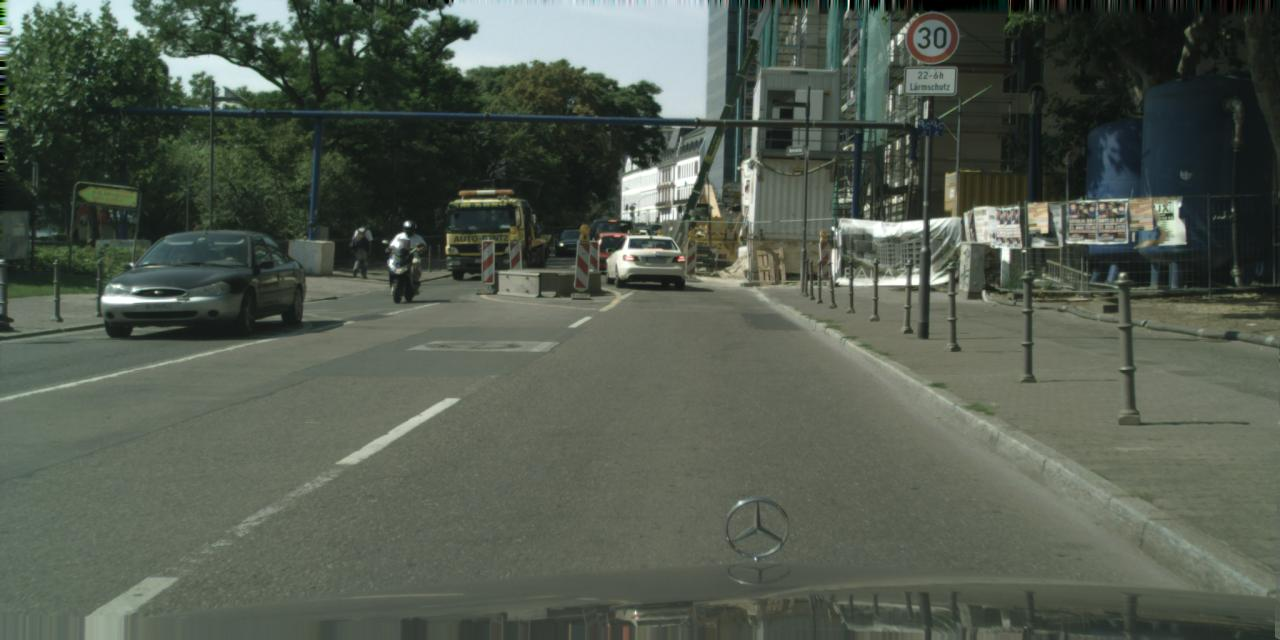ped: (392, 220, 419, 288), (349, 218, 373, 278)
